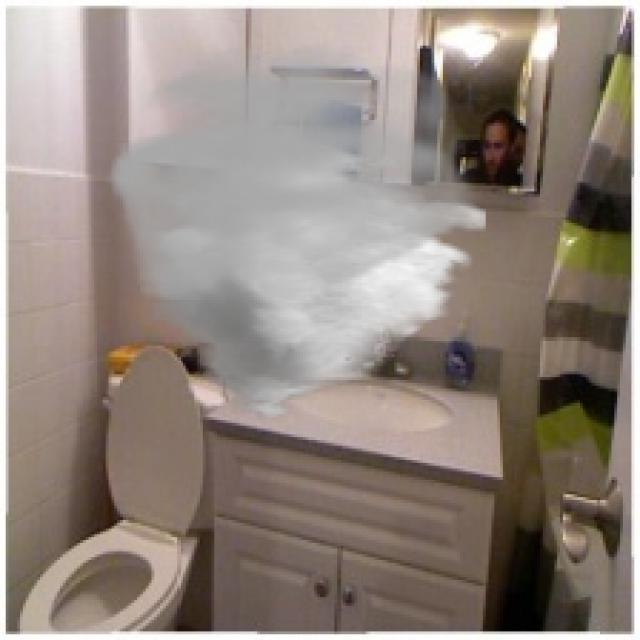smoke: (103, 43, 486, 423)
